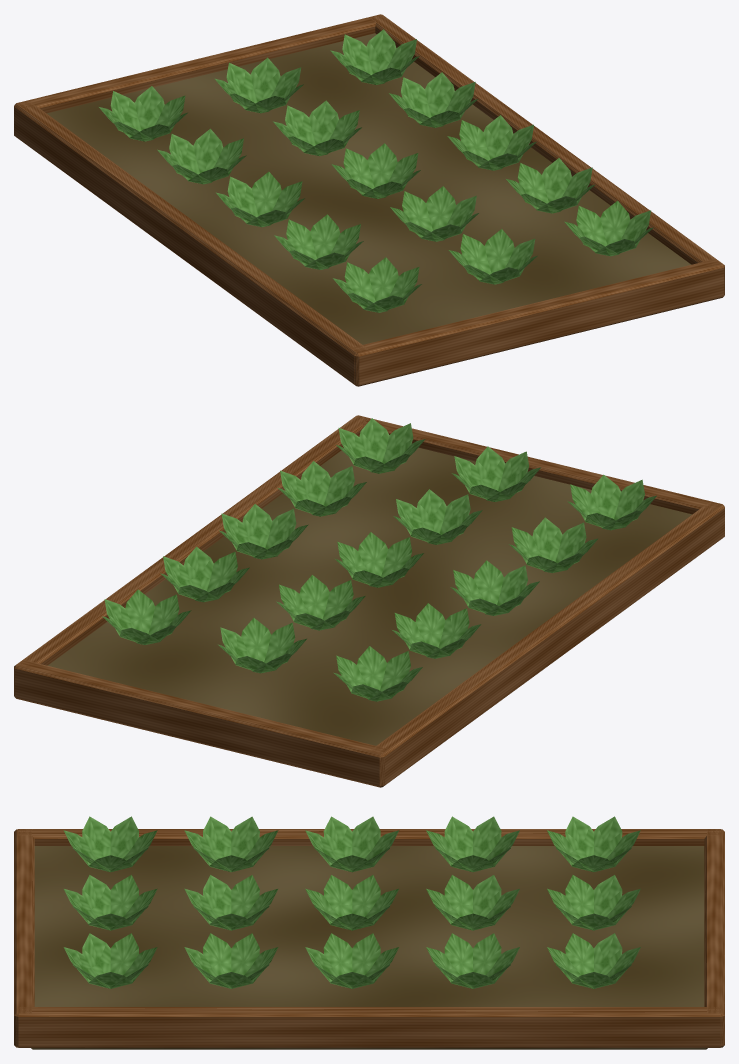
Rendered from vegetable_bed.glb.
3 renders of one model, top to bottom at view 1: azimuth 30°, elevation 25°; view 2: azimuth 150°, elevation 25°; view 3: azimuth 270°, elevation 25°, orthographic. The views are drawn at different scales.
Visible parts, largest first — view 1: vegetable_bed.001; view 2: vegetable_bed.001; view 3: vegetable_bed.001.
Boxes of the visible parts, <box> form: vegetable_bed.001: <box>14,14,724,386</box>; vegetable_bed.001: <box>14,415,724,787</box>; vegetable_bed.001: <box>14,816,724,1049</box>.
Bounding box in the file's own units: 2.56 × 0.44 × 4.12.
Materials: 1 (1 with a texture image).
